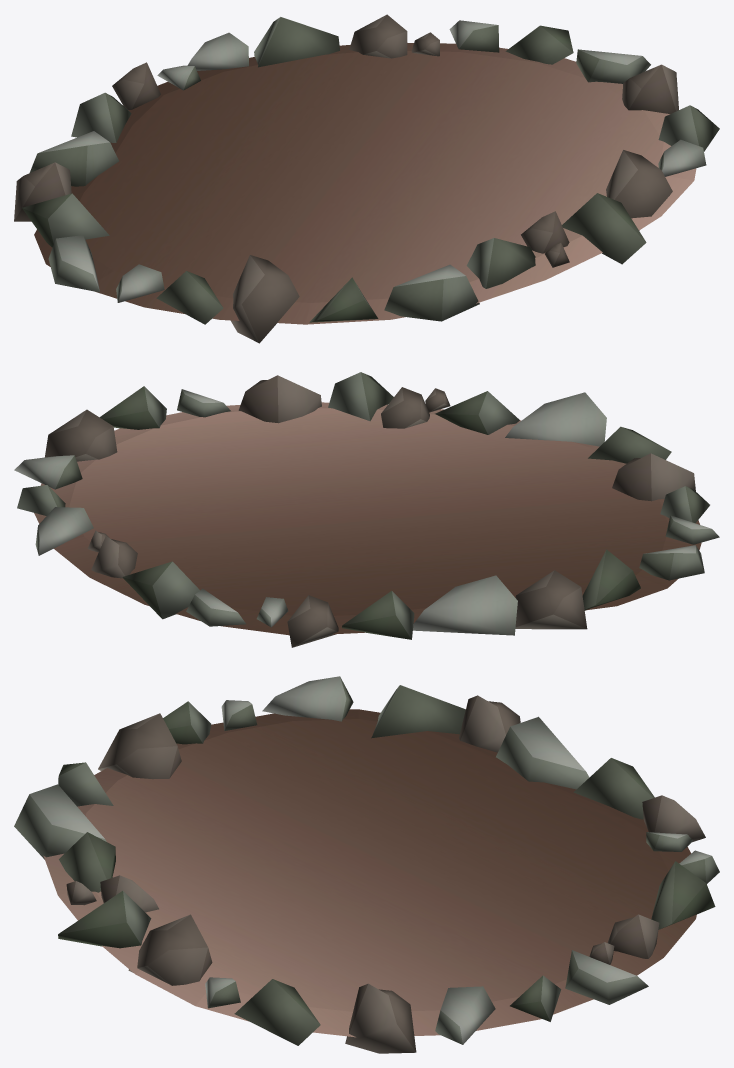
The model's file is SM_FlowerBed.fbx.
3 views of the same model, one above another, from view 1: azimuth 30°, elevation 25°; view 2: azimuth 150°, elevation 25°; view 3: azimuth 270°, elevation 25° (orthographic). The views are drawn at different scales.
Visible parts, largest first — view 1: Earth, Rock3.002, Rock1.003, Rock2.005, Rock3.004, Rock2.007, Rock1, Rock2.001, Rock2.004, Rock3.006, Rock1.001, Rock3.001 (+14 smaller); view 2: Earth, Rock1, Rock1.003, Rock3.001, Rock3.004, Rock3.002, Rock3.006, Rock2.007, Rock2, Rock2.004, Rock2.005, Rock2.001 (+14 smaller); view 3: Earth, Rock1, Rock3.006, Rock3.004, Rock1.003, Rock3.002, Rock2.001, Rock2.005, Rock2.006, Rock1.001, Rock2, Rock1.008 (+14 smaller).
Boxes of the visible parts, <box> form: Earth: <box>34,43,696,324</box>; Rock3.002: <box>230,255,299,343</box>; Rock1.003: <box>384,264,479,321</box>; Rock2.005: <box>562,193,646,264</box>; Rock3.004: <box>606,150,672,230</box>; Rock2.007: <box>254,17,339,67</box>; Rock1: <box>29,131,118,186</box>; Rock2.001: <box>22,193,109,247</box>; Rock2.004: <box>466,238,535,288</box>; Rock3.006: <box>622,64,678,113</box>; Rock1.001: <box>48,235,99,292</box>; Rock3.001: <box>14,162,71,221</box>; Earth: <box>34,402,701,635</box>; Rock1: <box>413,575,517,635</box>; Rock1.003: <box>505,392,606,446</box>; Rock3.001: <box>515,570,587,629</box>; Rock3.004: <box>238,375,321,423</box>; Rock3.002: <box>612,453,695,501</box>; Rock3.006: <box>44,409,117,461</box>; Rock2.007: <box>122,561,199,619</box>; Rock2: <box>342,591,414,639</box>; Rock2.004: <box>435,391,519,434</box>; Rock2.005: <box>328,372,393,421</box>; Rock2.001: <box>582,549,640,610</box>; Earth: <box>43,709,696,1037</box>; Rock1: <box>496,716,589,789</box>; Rock3.006: <box>345,983,416,1053</box>; Rock3.004: <box>128,914,212,985</box>; Rock1.003: <box>14,784,106,859</box>; Rock3.002: <box>98,713,181,779</box>; Rock2.001: <box>371,685,465,738</box>; Rock2.005: <box>58,891,151,948</box>; Rock2.006: <box>234,979,320,1045</box>; Rock1.001: <box>262,676,353,721</box>; Rock2: <box>573,758,654,819</box>; Rock1.008: <box>565,950,648,1004</box>.
Bounding box in the file's own units: 154 × 14.6 × 132.
Materials: 1 (1 with a texture image).
